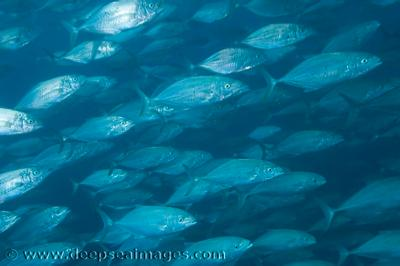Carangidae -Jacks-: (261, 47, 385, 114), (127, 72, 252, 125), (86, 204, 202, 245), (181, 152, 283, 195), (9, 65, 91, 114), (99, 139, 183, 185), (224, 21, 320, 53), (175, 234, 257, 265), (0, 167, 58, 197), (0, 107, 43, 134)
